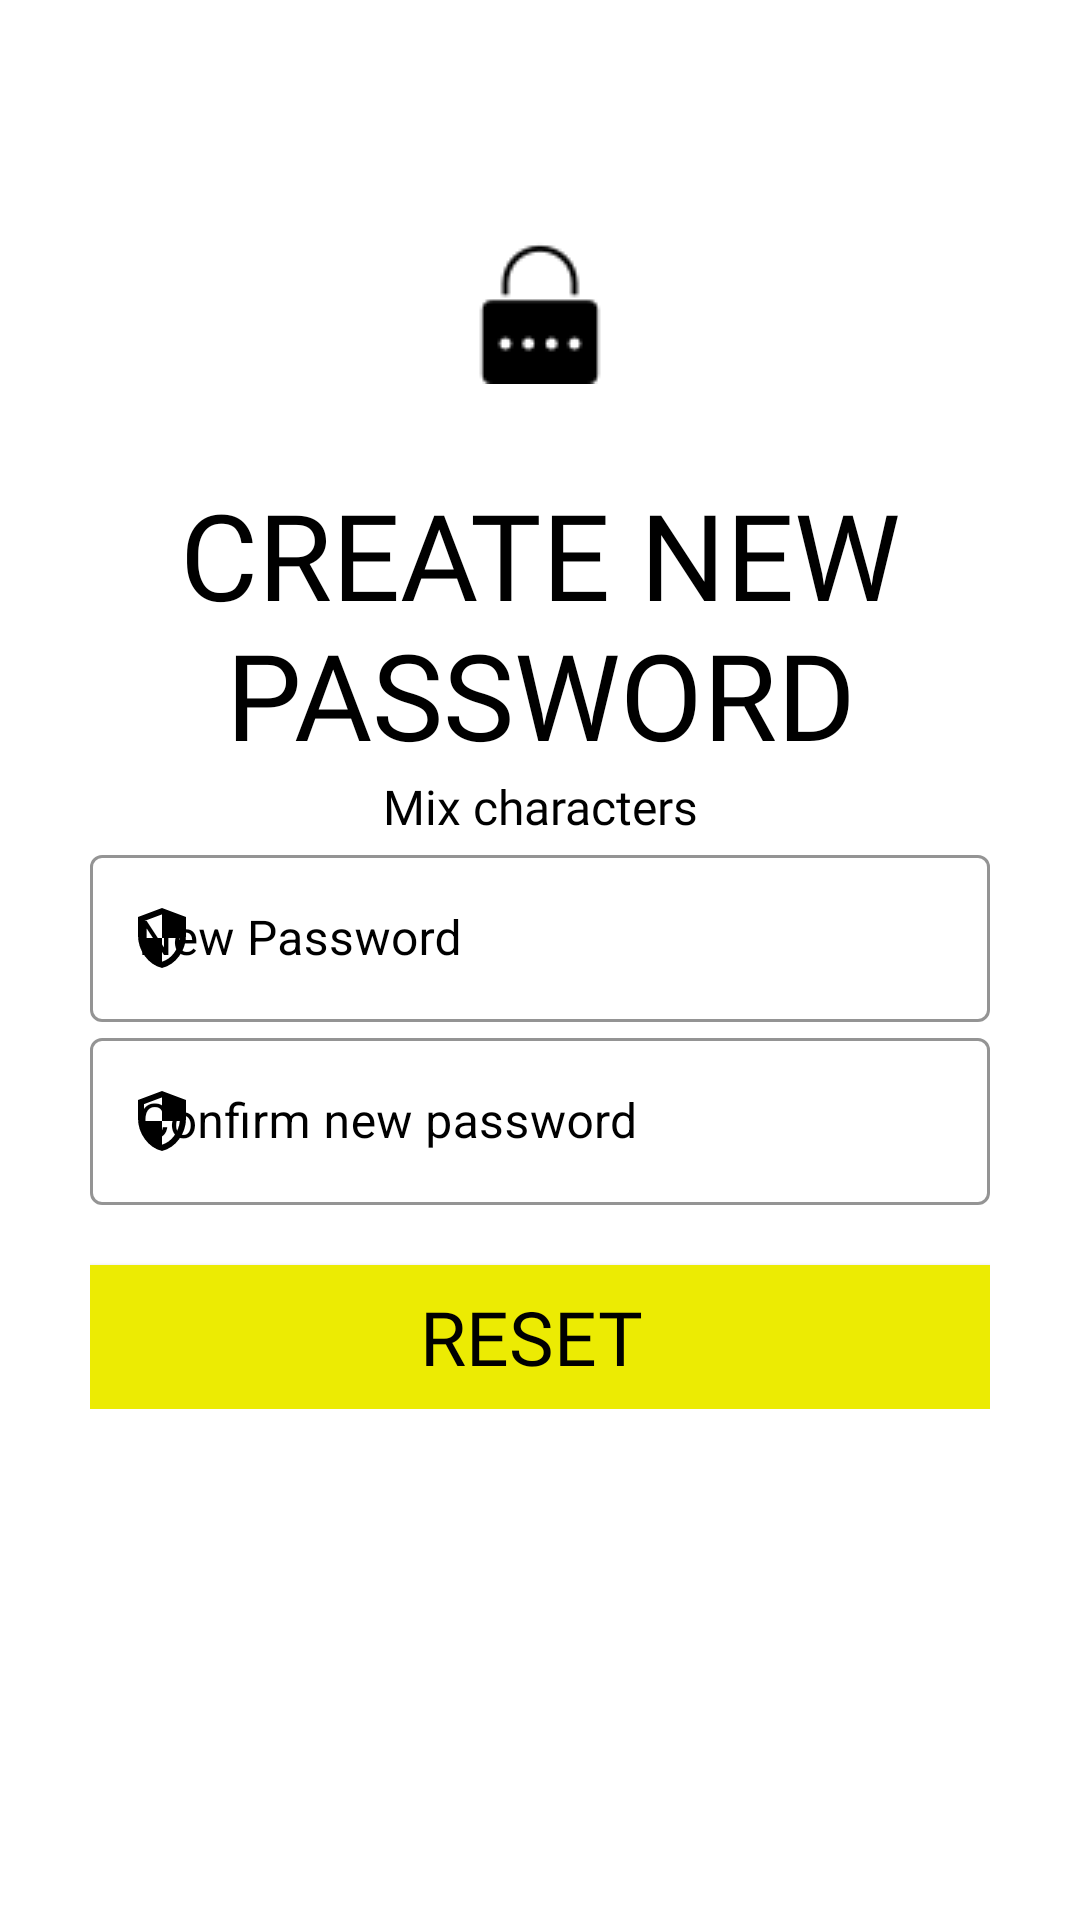

Screen size 1080w x 1920h. Icon name, then its box in pixels as (x1, y1, x2, y2):
locking: (480, 245, 600, 384)
